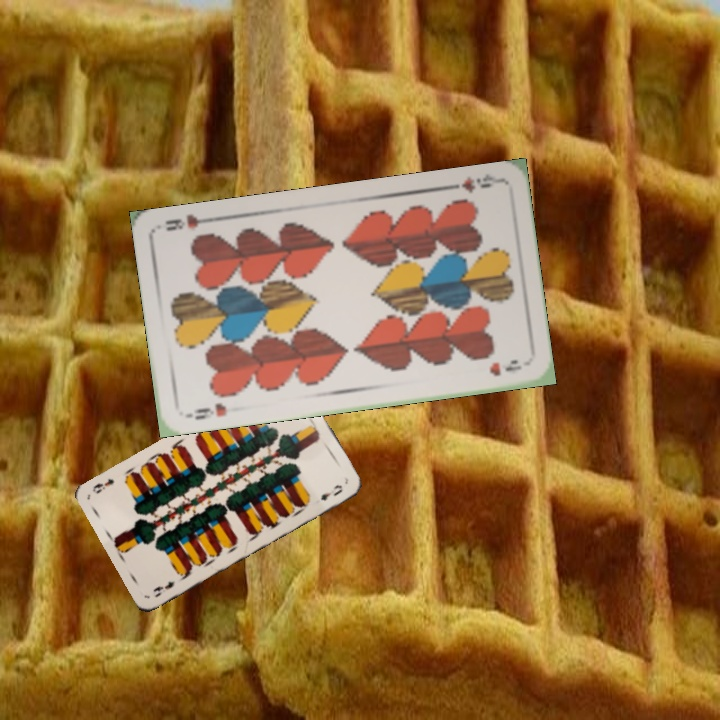E9: (149, 577, 178, 600)
H9: (443, 170, 502, 196), (191, 399, 230, 422)
